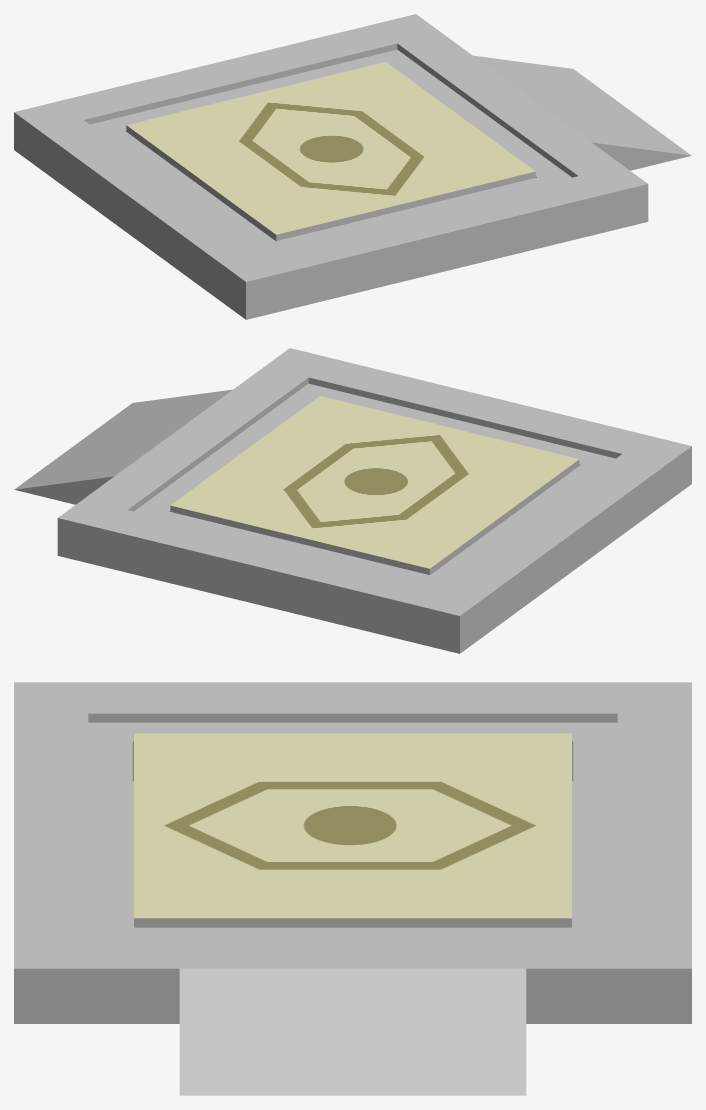
Rendered from DoorMecanism.fbx.
The picture shows the model from 3 angles, top to bottom: view 1: azimuth 30°, elevation 25°; view 2: azimuth 150°, elevation 25°; view 3: azimuth 270°, elevation 25°; orthographic projection. The views are drawn at different scales.
Visible parts, largest first — view 1: Base, PressurePlate; view 2: Base, PressurePlate; view 3: Base, PressurePlate.
Part boxes in pixels (bbox=[...]): Base: bbox=[14, 14, 691, 319]; PressurePlate: bbox=[126, 62, 535, 240]; Base: bbox=[14, 348, 691, 653]; PressurePlate: bbox=[170, 396, 579, 574]; Base: bbox=[14, 682, 691, 1095]; PressurePlate: bbox=[134, 733, 571, 927].
Bounding box in the file's own units: 681 × 49.07 × 545.
